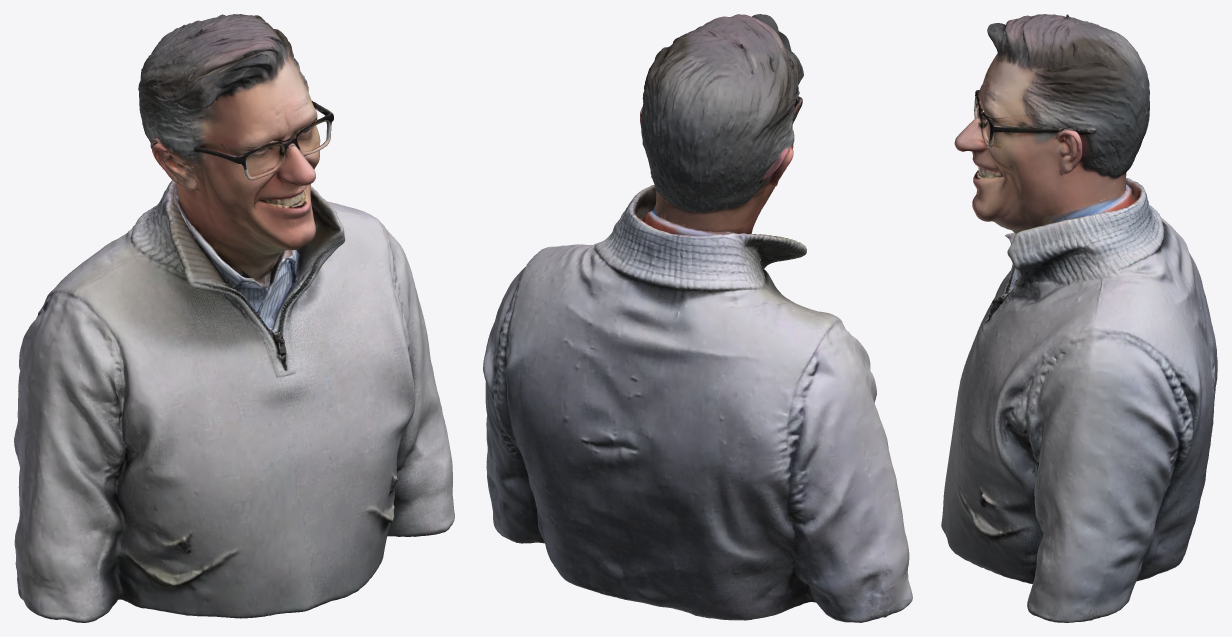
The model's file is dude.glb.
3 views of the same model, side by side, from view 1: azimuth 30°, elevation 25°; view 2: azimuth 150°, elevation 25°; view 3: azimuth 270°, elevation 25° (orthographic). The views are drawn at different scales.
Bounding box in the file's own units: 1.54 × 1.9 × 0.9526.
1 material, 1 textured.
